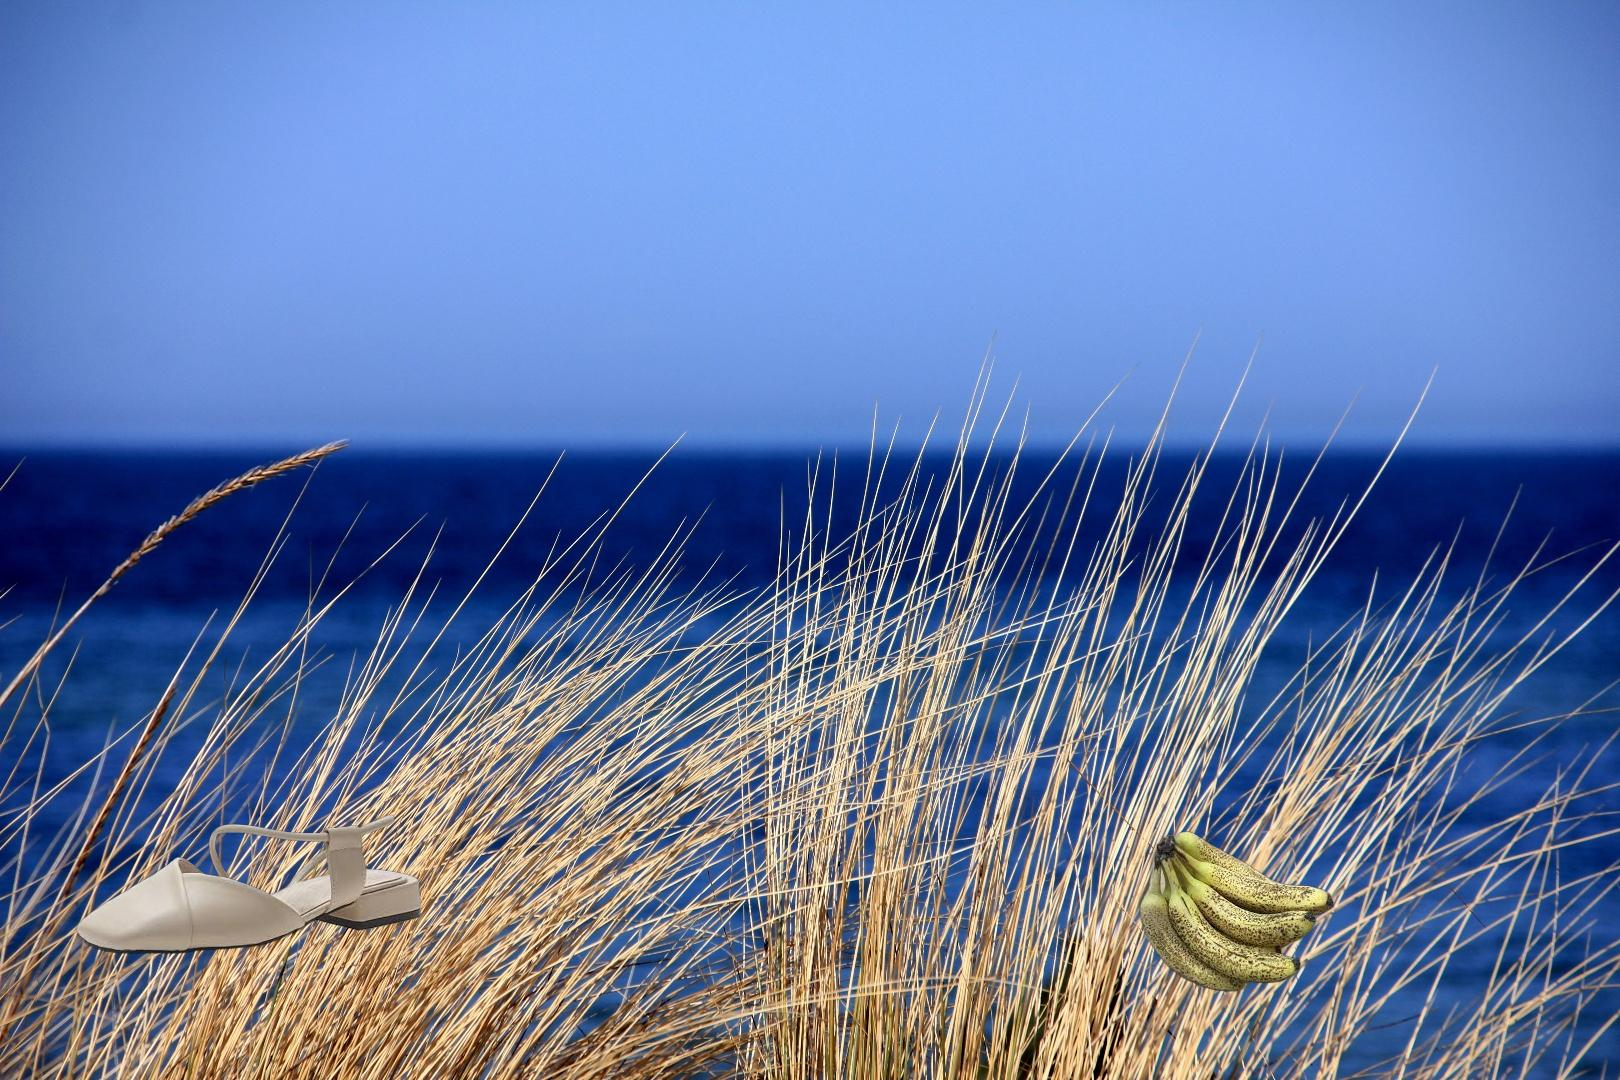biological: (1135, 829, 1337, 994)
shoes: (74, 812, 424, 957)
